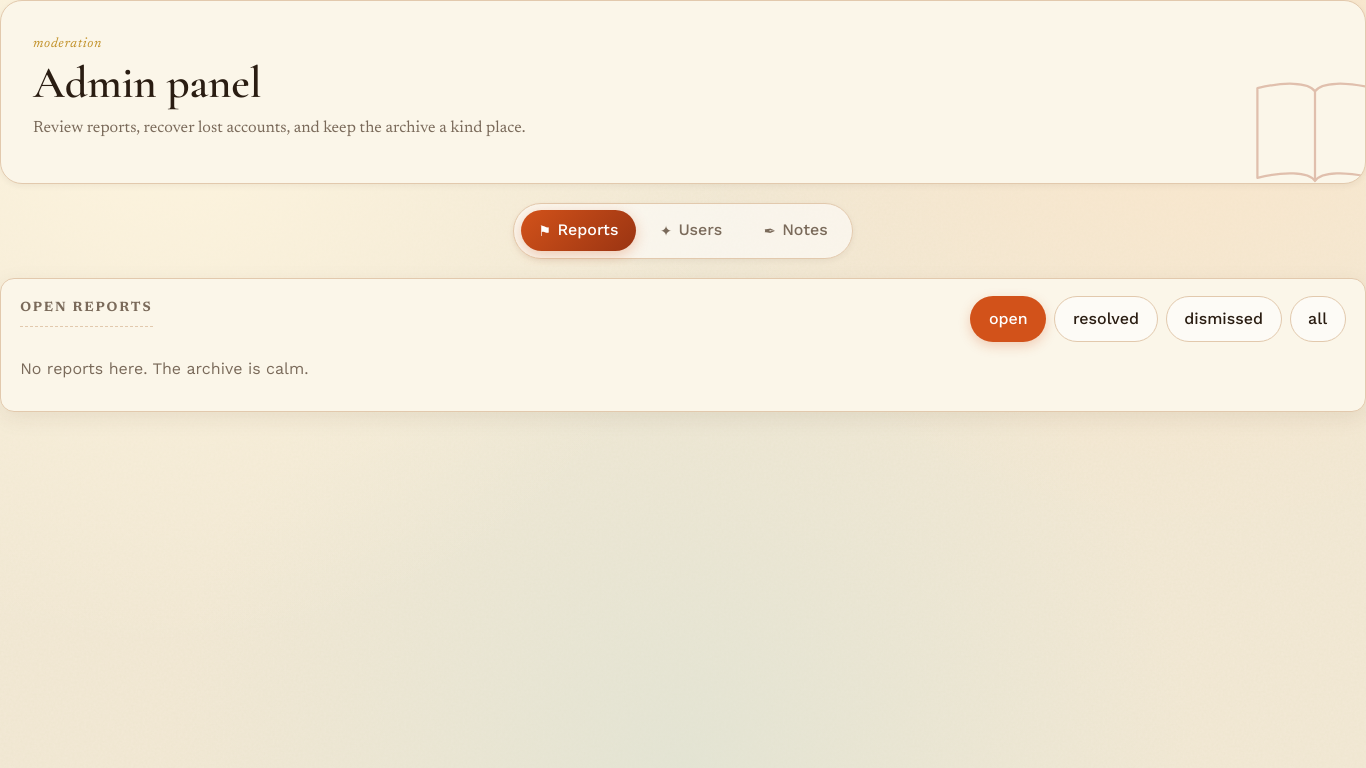
Test case: AdminDashboard › renders user rows on the users tab
Click the button "✦ Users" at {"x": 691, "y": 231}, box [642,210,740,251]
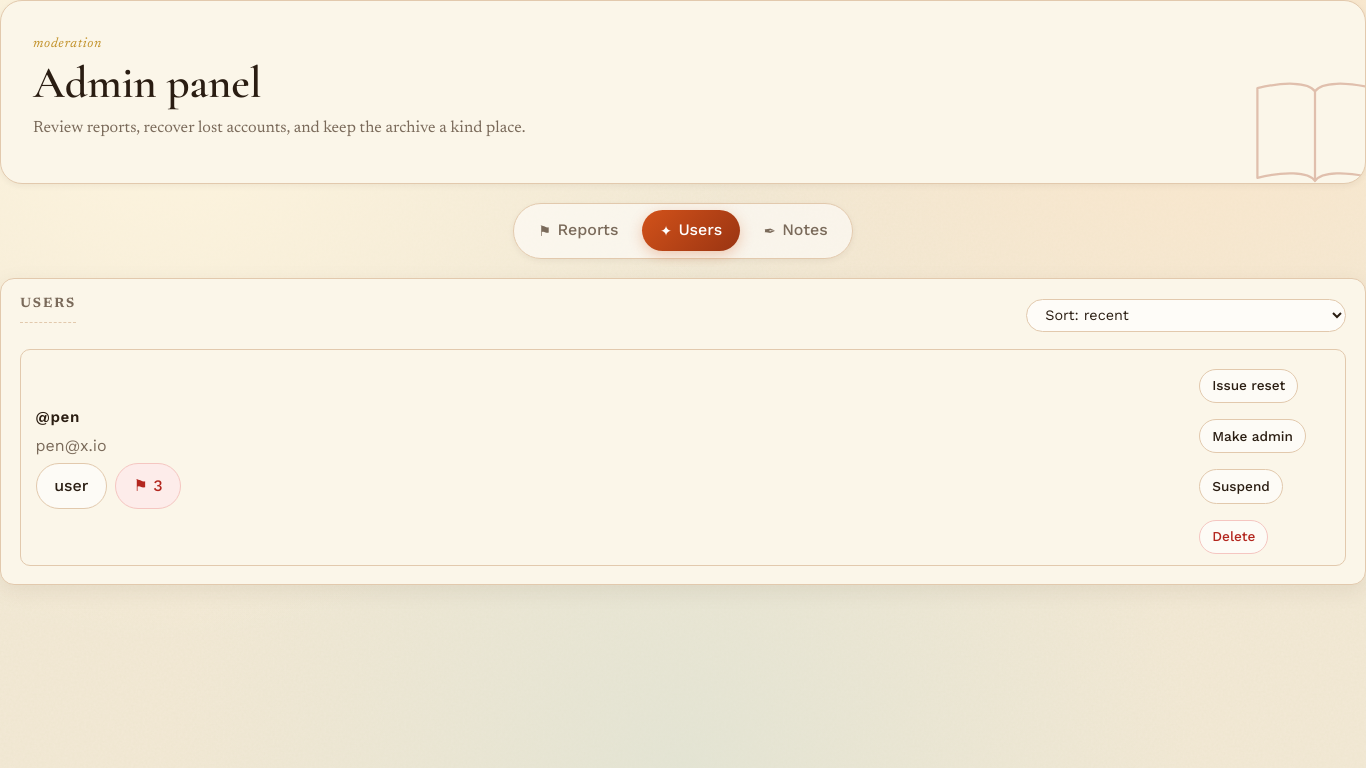
Expected: the link "@pen" is shown, [36,408,80,426]
Expected: the text "pen@x.io" is shown, [36,436,107,455]
Expected: the text "user" is shown, [36,463,107,509]
